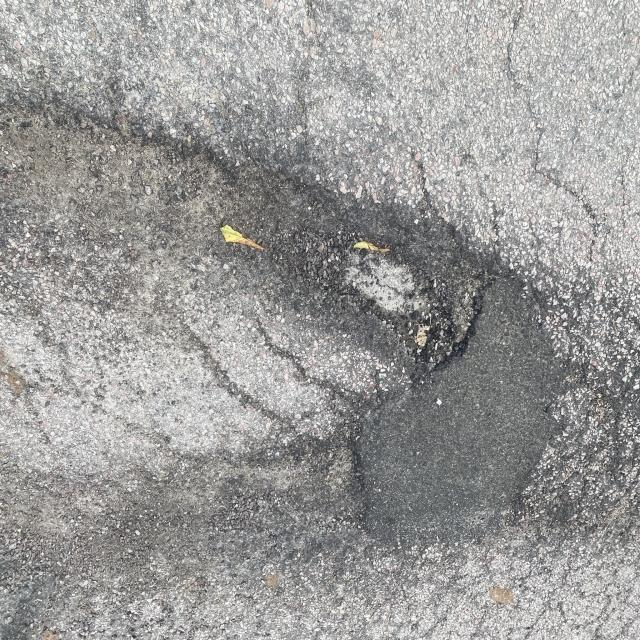Pothole: (132, 124, 618, 575)
